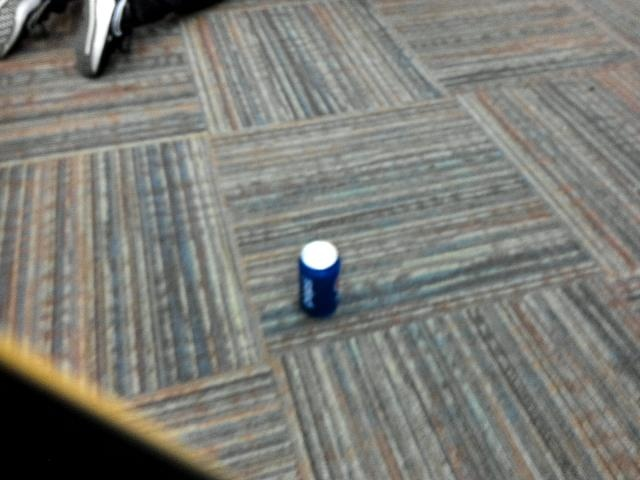can: (286, 236, 353, 324)
